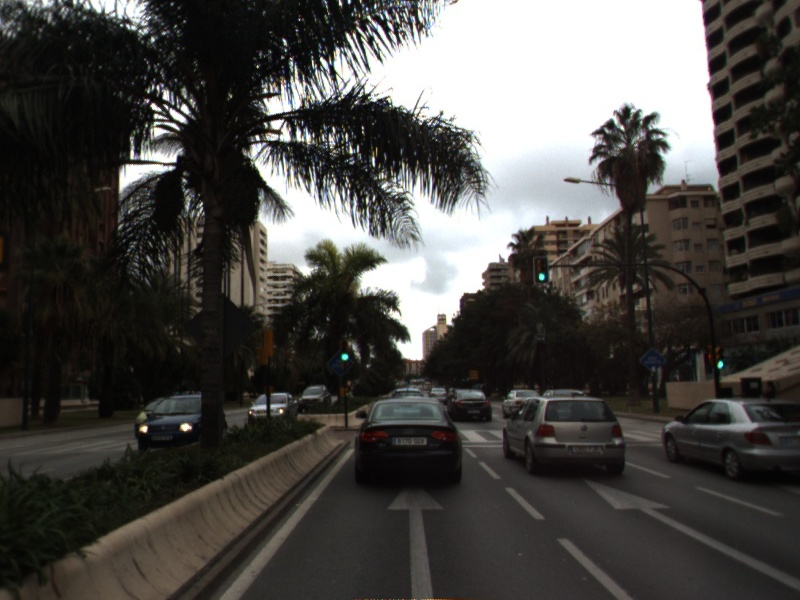STRAIGHT: (577, 474, 800, 590), (382, 483, 449, 600)
